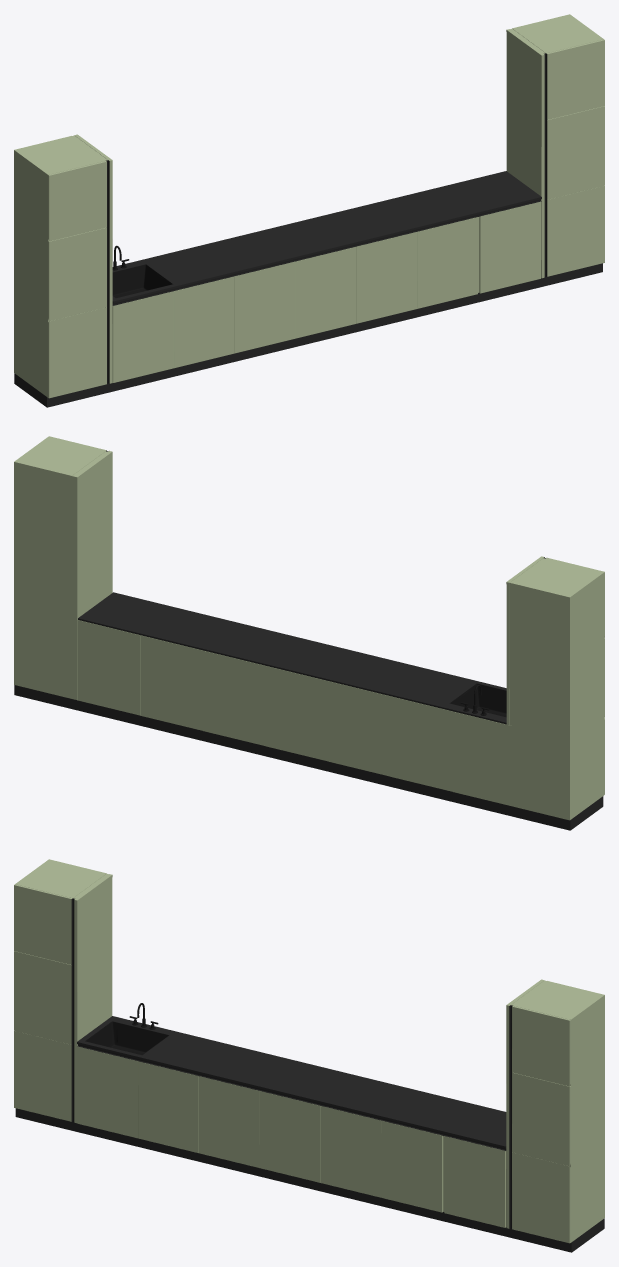
Rendered from Kuhnya_000.glb.
3 views of the same model, one above another, from view 1: azimuth 30°, elevation 25°; view 2: azimuth 150°, elevation 25°; view 3: azimuth 330°, elevation 25° (orthographic).
Parts seen in each view (by area): view 1: Line110, Group002, Box8449, Group005, Group003, Line108, Group004, Group008, Object411, Group009, Group010, Group012 (+7 smaller); view 2: Box8449, Box8439, Line110, Group002, Line108, Box8456, Box8444, Box8452, Box8453, Box8451, Box8455, Box8454 (+2 smaller); view 3: Line110, Group004, Box8439, Group003, Group005, Line108, Group002, Group011, Group012, Group010, Group009, Group007 (+7 smaller).
Boxes of the visible parts, box(x1,y1,x2,y2) form: Line110: box(112, 171, 541, 303); Group002: box(506, 29, 604, 278); Box8449: box(14, 136, 105, 397); Group005: box(48, 227, 106, 398); Group003: box(547, 106, 604, 276); Line108: box(14, 263, 602, 407); Group004: box(48, 134, 112, 383); Group008: box(234, 261, 295, 353); Object411: box(112, 291, 173, 382); Group009: box(295, 247, 356, 338); Group010: box(356, 232, 417, 323); Group012: box(479, 201, 540, 293); Box8449: box(512, 558, 603, 820); Box8439: box(14, 437, 105, 698); Line110: box(78, 592, 506, 724); Group002: box(48, 436, 112, 700); Line108: box(14, 685, 603, 830); Box8456: box(77, 620, 140, 715); Box8444: box(140, 635, 203, 730); Box8452: box(265, 666, 328, 761); Box8453: box(328, 681, 390, 776); Box8451: box(203, 650, 265, 745); Box8455: box(453, 711, 515, 807); Box8454: box(391, 696, 453, 791); Line110: box(77, 1016, 506, 1148); Group004: box(14, 874, 112, 1123); Box8439: box(513, 981, 604, 1242); Group003: box(512, 1072, 570, 1243); Group005: box(14, 951, 71, 1121); Line108: box(15, 1108, 604, 1252); Group002: box(506, 979, 570, 1228); Group011: box(381, 1120, 443, 1212); Group012: box(444, 1136, 505, 1227); Group010: box(320, 1106, 381, 1197); Group009: box(259, 1091, 320, 1182); Group007: box(138, 1061, 198, 1153).
Bounding box in the file's own units: 5.48 × 2.2 × 0.6104.
